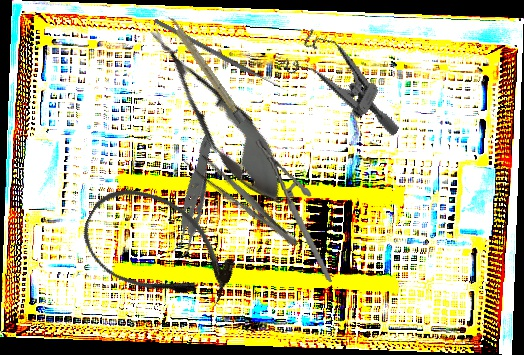Cannula: (68, 170, 250, 327)
Dressing Forceps: (180, 146, 305, 253)
Micro Scissor: (131, 14, 303, 218)
Needle Holder: (254, 131, 332, 290)
Pusher: (153, 18, 287, 93)
Scalpel Handle: (166, 14, 246, 124)
Speculum: (273, 22, 422, 138)
Tissue Forceps: (122, 130, 259, 268)
